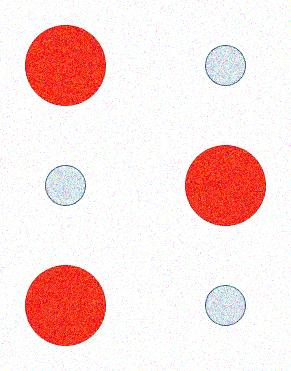O: (17, 16, 273, 357)
